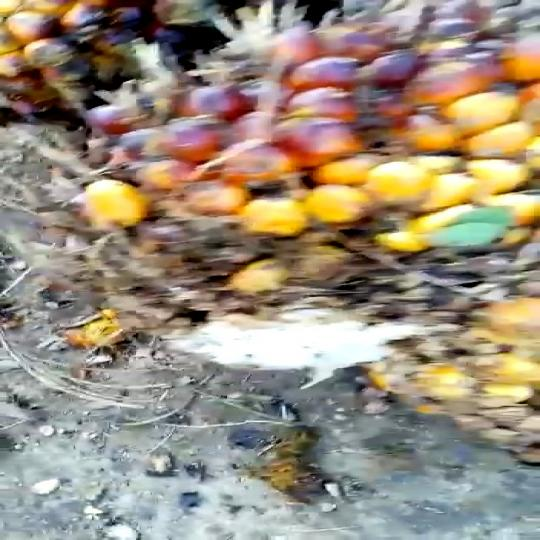masak: (77, 14, 540, 390)
